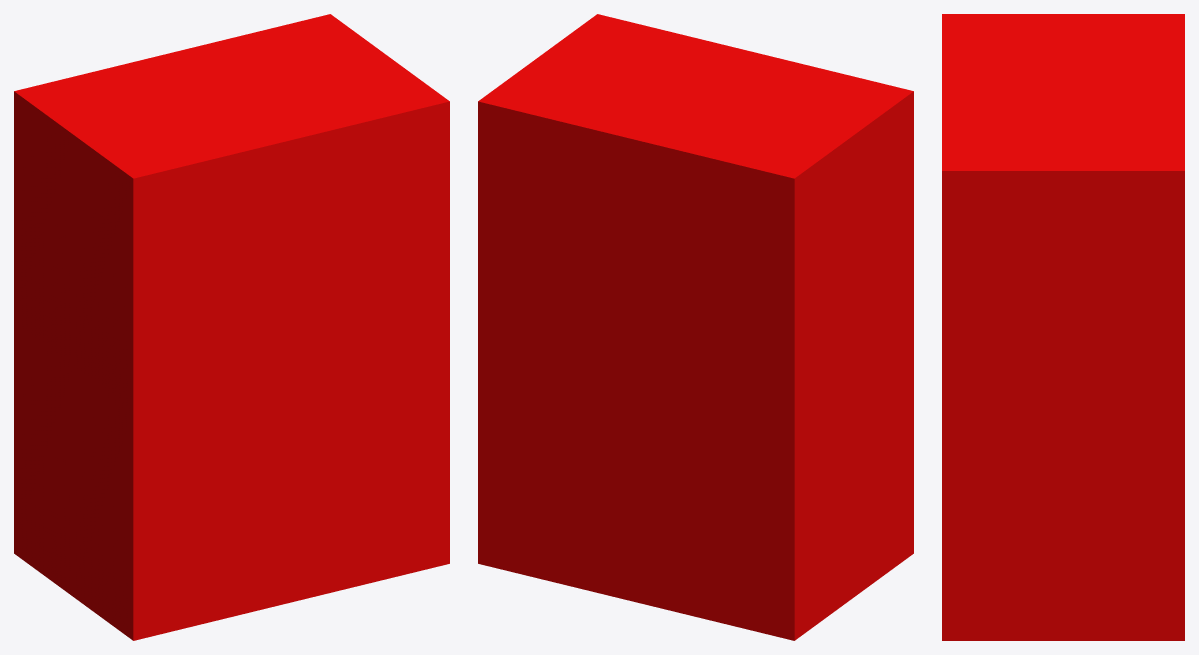
File: thoracic1_col.dae
The picture shows the model from 3 angles, left to right: view 1: azimuth 30°, elevation 25°; view 2: azimuth 150°, elevation 25°; view 3: azimuth 270°, elevation 25°; orthographic projection.
Visible parts, largest first — view 1: node0; view 2: node0; view 3: node0.
Part boxes in pixels (x1,y1,x2,y2): node0: [14, 14, 449, 640]; node0: [478, 14, 913, 640]; node0: [942, 14, 1184, 640].
Bounding box in the file's own units: 0.0654 × 0.0913 × 0.0428.
